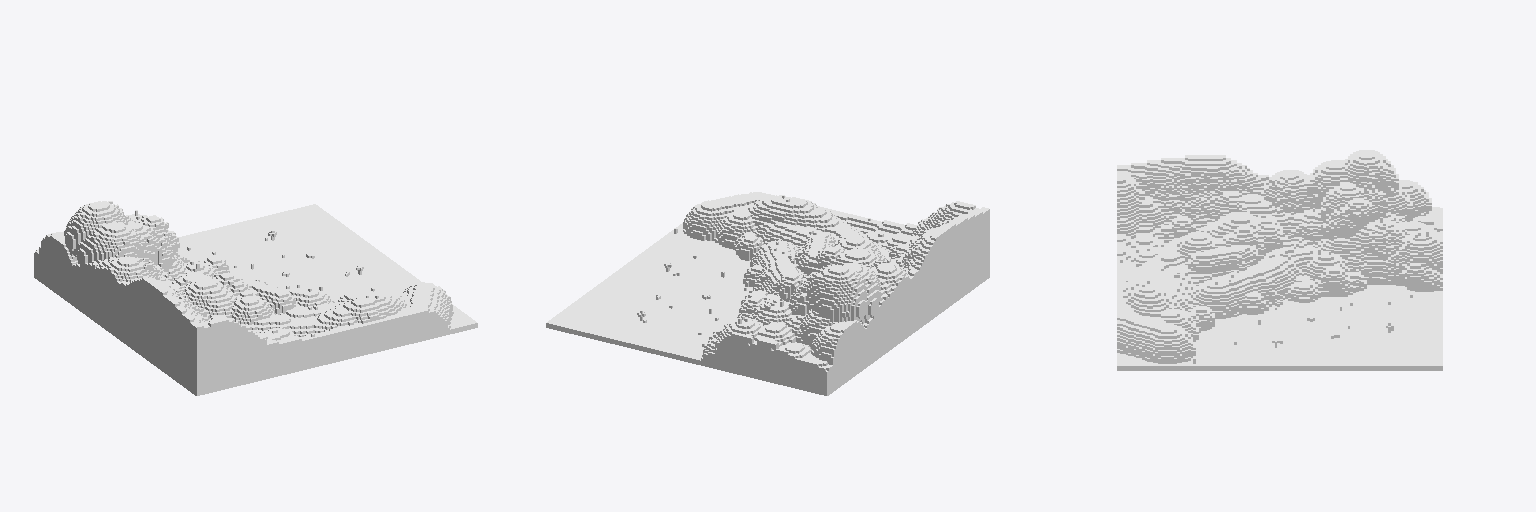
The model's file is town_model-11.obj.
3 renders of one model, left to right at view 1: azimuth 30°, elevation 25°; view 2: azimuth 150°, elevation 25°; view 3: azimuth 270°, elevation 25°, orthographic.
Parts seen in each view (by area): view 1: town_model-11; view 2: town_model-11; view 3: town_model-11.
Part boxes in pixels (x1,y1,x2,y2): town_model-11: (34,201,477,395); town_model-11: (546,192,989,395); town_model-11: (1117,150,1442,370).
Size of the model in its own units: 120 by 38 by 120.